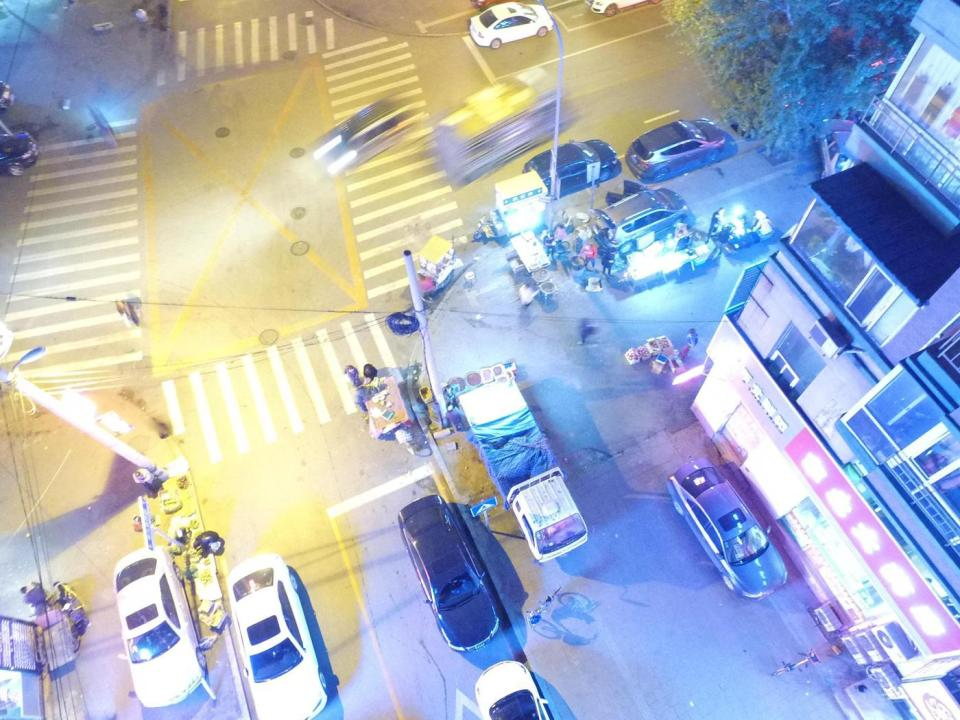car: (224, 550, 332, 720), (666, 456, 788, 602), (396, 493, 500, 654), (112, 544, 207, 709), (582, 186, 695, 256), (624, 118, 738, 184), (316, 98, 412, 176), (520, 138, 621, 201), (474, 659, 552, 720), (468, 1, 555, 50), (0, 130, 40, 178), (585, 0, 663, 16), (0, 81, 16, 114)
truck: (458, 377, 588, 562)
van: (435, 66, 565, 183)
